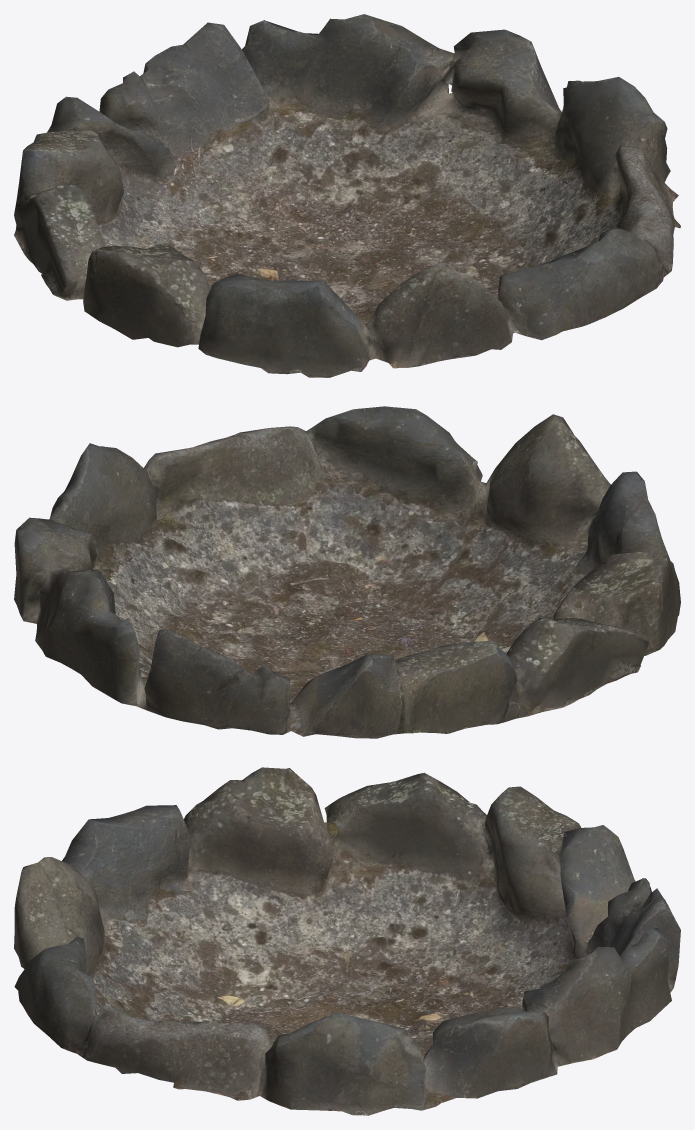
The model's file is fire_pit.glb.
The picture shows the model from 3 angles, top to bottom: view 1: azimuth 30°, elevation 25°; view 2: azimuth 150°, elevation 25°; view 3: azimuth 270°, elevation 25°; orthographic projection.
Visible parts, largest first — view 1: stone_fire_pit; view 2: stone_fire_pit; view 3: stone_fire_pit.
Boxes of the visible parts, left/top/right/bottom form: stone_fire_pit: left=14, top=14, right=680, bottom=377; stone_fire_pit: left=14, top=406, right=680, bottom=738; stone_fire_pit: left=14, top=767, right=680, bottom=1115.
Bounding box in the file's own units: 1.45 × 0.3883 × 1.43.
1 material, 1 textured.
